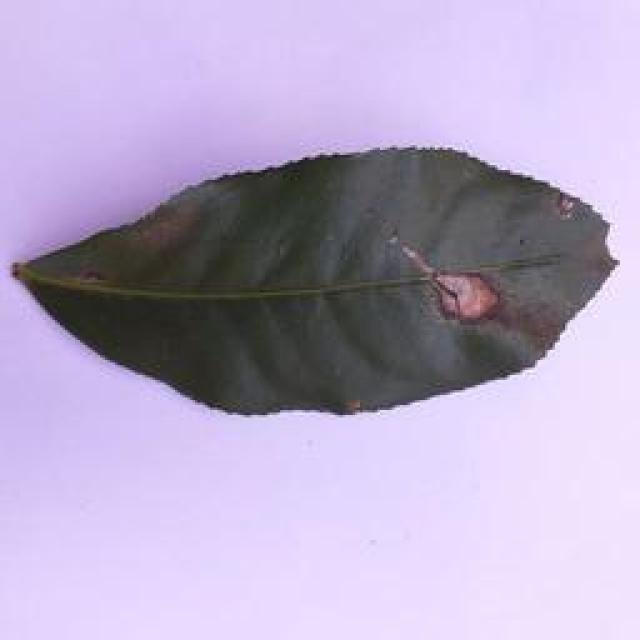Gray Blight: (7, 149, 621, 424)
